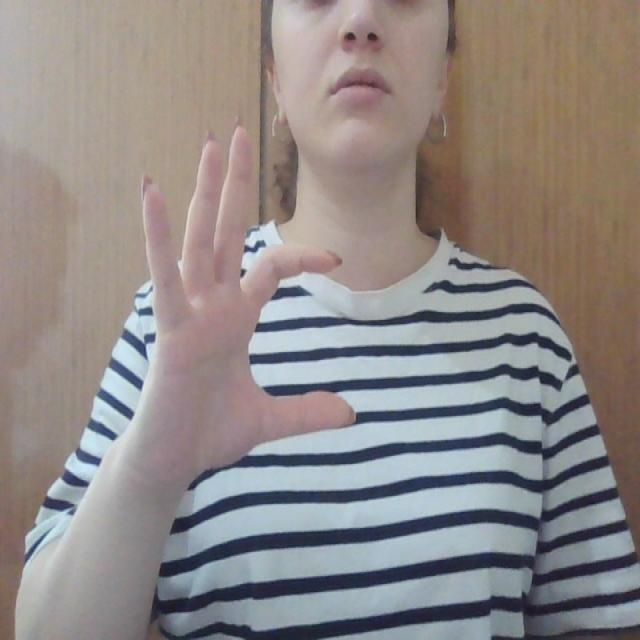Tuvalet: (114, 123, 362, 484)
